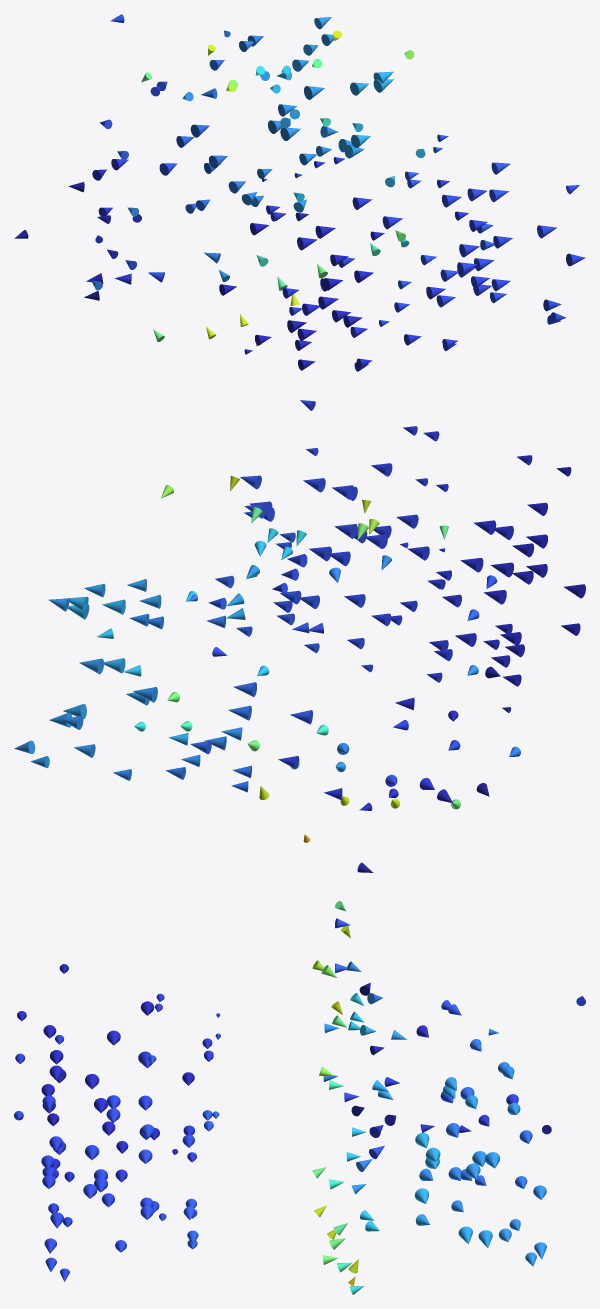
Rendered from LineasCorrienteN2-H2O_mh2-8.20_V-0.8.glb.
3 renders of one model, top to bottom at view 1: azimuth 30°, elevation 25°; view 2: azimuth 150°, elevation 25°; view 3: azimuth 270°, elevation 25°, orthographic. The views are drawn at different scales.
Bounding box in the file's own units: 0.000999 × 0.000814 × 0.00127.
Materials: 2 (2 with a texture image).
